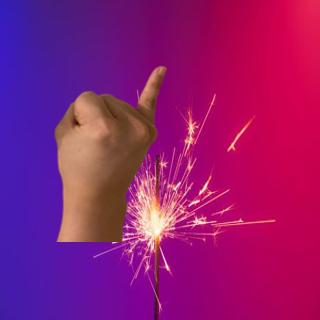FINE: (49, 59, 174, 203)
